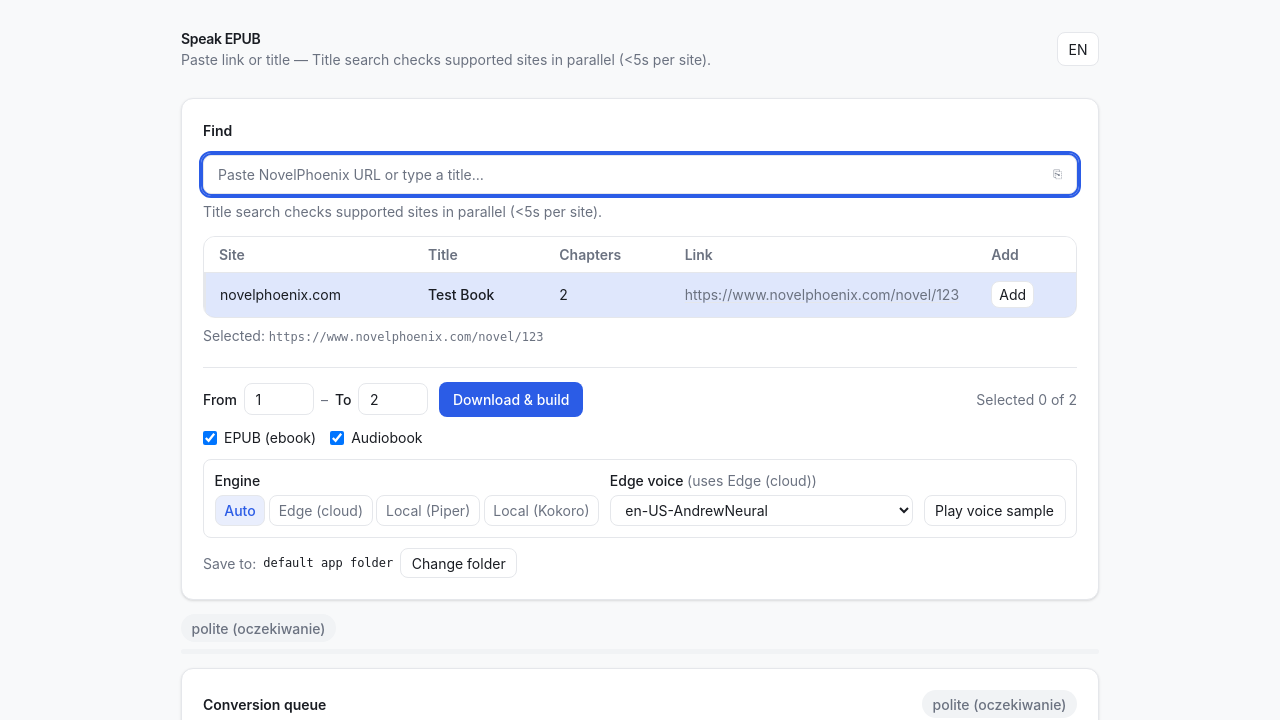
Test case: App wizard — single Start orchestration › Stop button aborts a running wizard job
The width and height of the screenshot is (1280, 720).
Expected: the element with test id "wizard-options" is shown, x1=203 y1=366 x2=1077 y2=578
Click the button with test id "range-start".
click(511, 399)  # box x1=439 y1=382 x2=584 y2=416
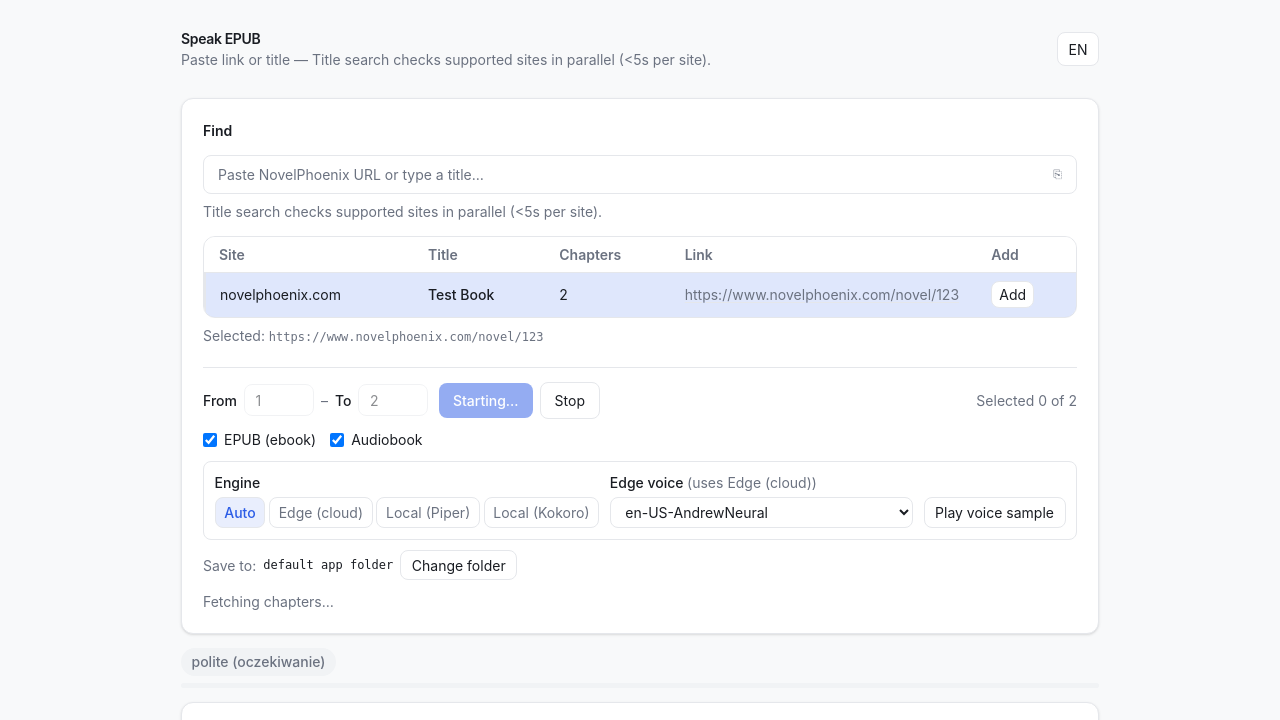
Expected: the button with test id "wizard-stop" is shown
Click the button with test id "wizard-stop".
click(570, 400)  # box x1=540 y1=382 x2=600 y2=418
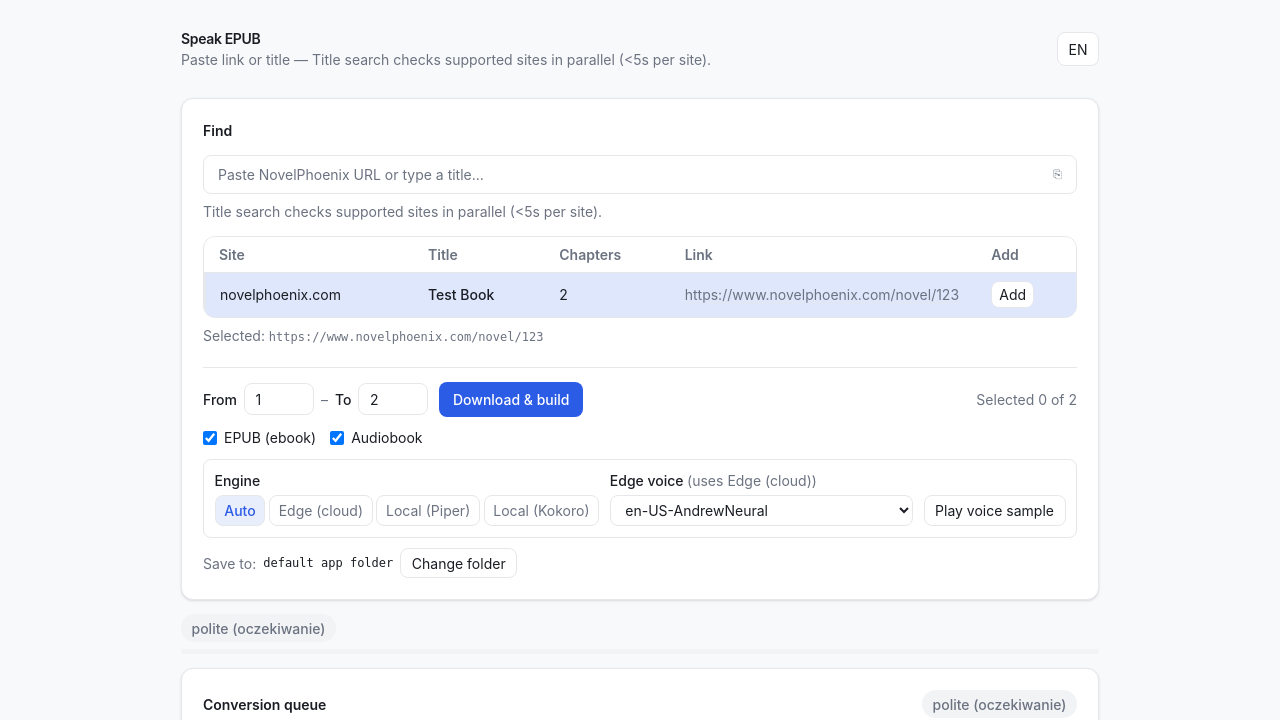
Expected: the button with test id "wizard-stop" is gone
